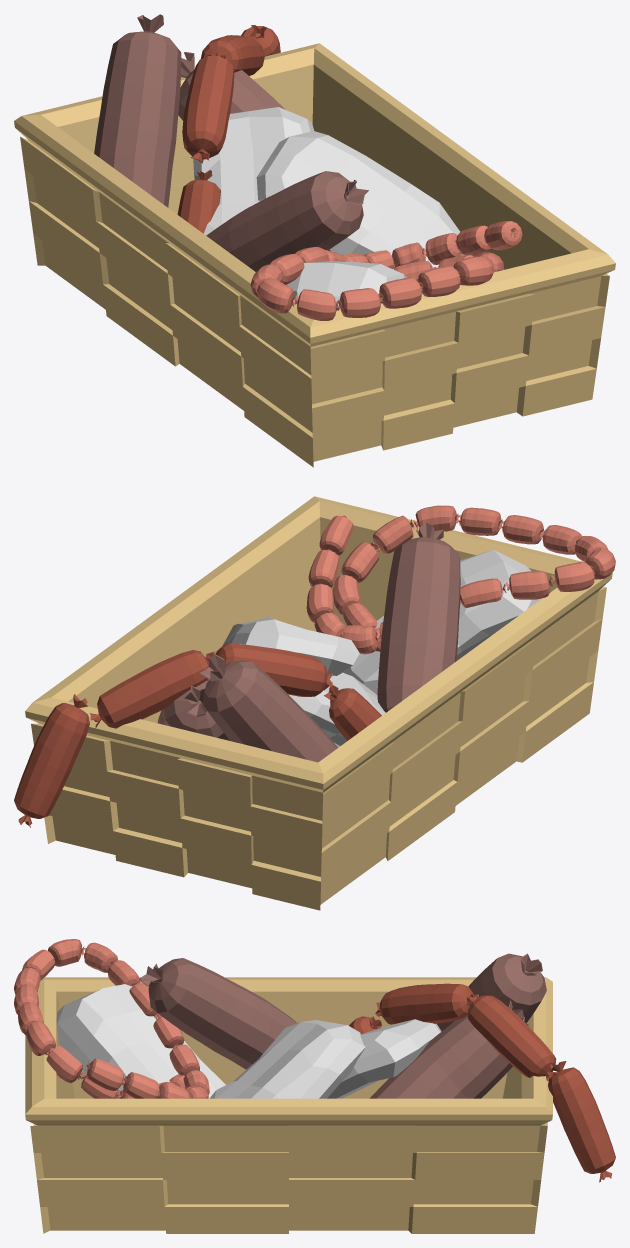
The model's file is Meat.fbx.
3 views of the same model, one above another, from view 1: azimuth 30°, elevation 25°; view 2: azimuth 150°, elevation 25°; view 3: azimuth 270°, elevation 25° (orthographic). The views are drawn at different scales.
Visible parts, largest first — view 1: Canasta, Choricitos, Salchichon, Carne, Salchichon1, Chorizos, Carne1, Carne2, Salchichon2; view 2: Canasta, Choricitos, Chorizos, Salchichon1, Salchichon, Carne2, Carne, Salchichon2, Carne1; view 3: Canasta, Chorizos, Choricitos, Salchichon1, Carne2, Carne, Salchichon2, Carne1, Salchichon.
Boxes of the visible parts, x1,y1,x2,y2 form: Canasta: (14,43,615,467); Choricitos: (250,221,522,320); Salchichon: (94,14,181,207); Carne: (256,131,464,269); Salchichon1: (206,171,368,271); Chorizos: (177,25,280,233); Carne1: (193,107,314,235); Carne2: (286,261,407,310); Salchichon2: (178,52,331,251); Canasta: (25,496,612,910); Choricitos: (306,505,615,654); Chorizos: (14,643,381,827); Salchichon1: (377,522,460,712); Salchichon: (199,654,337,762); Carne2: (343,549,541,694); Carne: (223,616,359,675); Salchichon2: (157,679,229,740); Carne1: (214,643,385,747); Canasta: (25,977,552,1233); Chorizos: (349,983,615,1182); Choricitos: (14,939,209,1098); Salchichon1: (139,958,297,1069); Carne2: (56,984,225,1098); Carne: (209,1020,365,1098); Salchichon2: (369,1000,528,1098); Carne1: (327,1019,441,1098); Salchichon: (437,953,546,1031).
Size of the model in its own units: 474 by 314 by 842.
